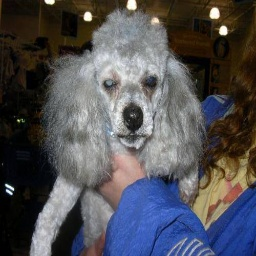dog: (29, 8, 203, 252)
